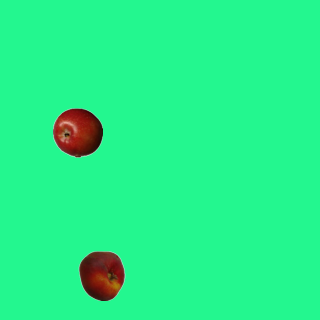Apple Braeburn: (52, 107, 102, 157)
Nectarine Flat: (76, 250, 126, 300)
